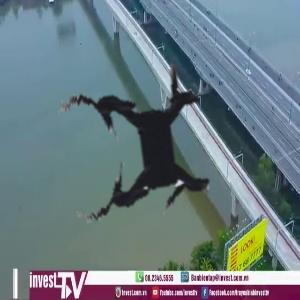drone: (2, 8, 288, 294)
